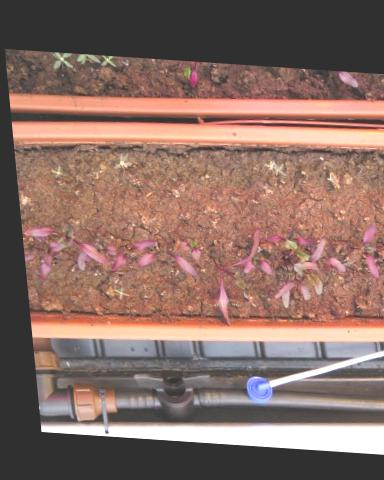weed: (104, 284, 124, 300)
